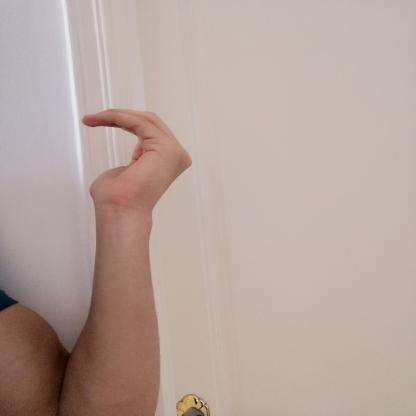HAA: (60, 102, 208, 216)
